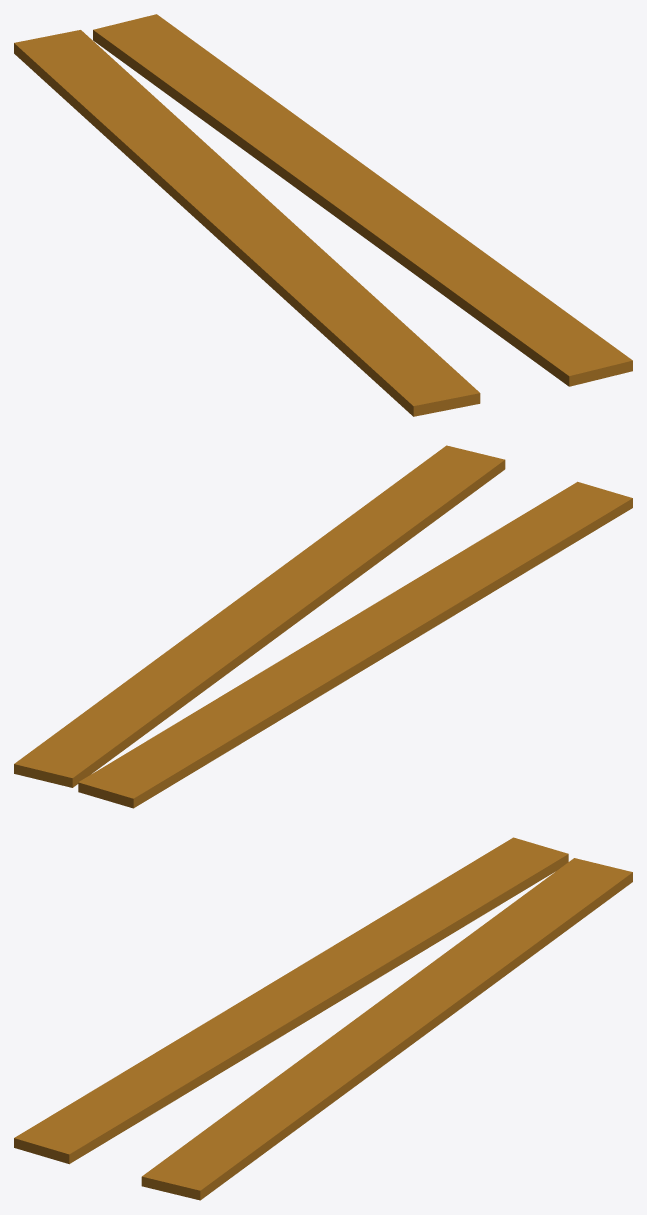
File: planks1.fbx
3 renders of one model, top to bottom at view 1: azimuth 30°, elevation 25°; view 2: azimuth 150°, elevation 25°; view 3: azimuth 330°, elevation 25°, orthographic. The views are drawn at different scales.
Visible parts, largest first — view 1: Cube.005; view 2: Cube.005; view 3: Cube.005.
Boxes of the visible parts, x1,y1,x2,y2 form: Cube.005: [14, 14, 632, 416]; Cube.005: [14, 445, 632, 808]; Cube.005: [14, 837, 632, 1200].
Bounding box in the file's own units: 226 × 10.87 × 888.
